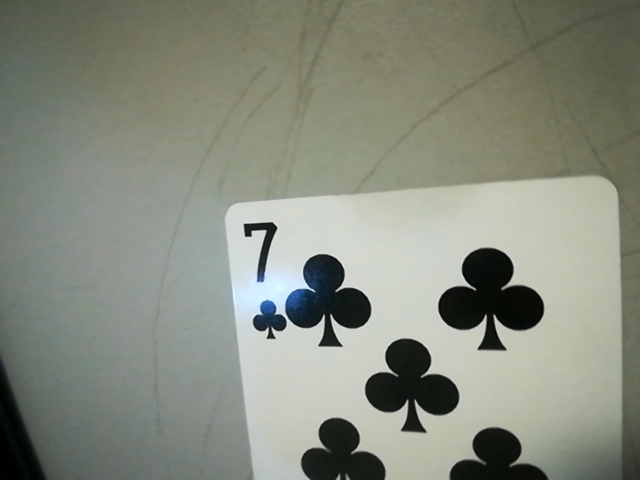mh 7: (227, 212, 286, 348)
